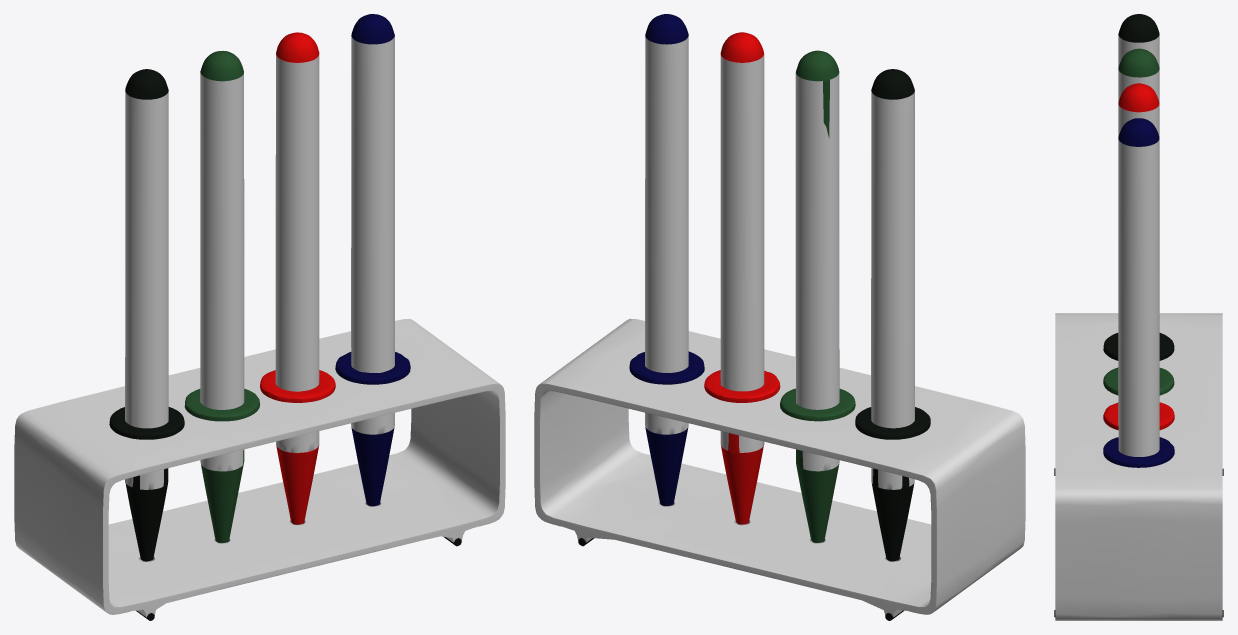
File: PenHolderSet.fbx
3 views of the same model, side by side, from view 1: azimuth 30°, elevation 25°; view 2: azimuth 150°, elevation 25°; view 3: azimuth 270°, elevation 25° (orthographic). The views are drawn at different scales.
Visible parts, largest first — view 1: Pen Holder Set; view 2: Pen Holder Set; view 3: Pen Holder Set.
Part boxes in pixels (bbox=[...]): Pen Holder Set: bbox=[14, 14, 505, 620]; Pen Holder Set: bbox=[534, 14, 1025, 620]; Pen Holder Set: bbox=[1054, 14, 1223, 620].
Bounding box in the file's own units: 0.126 × 0.1516 × 0.0486.
